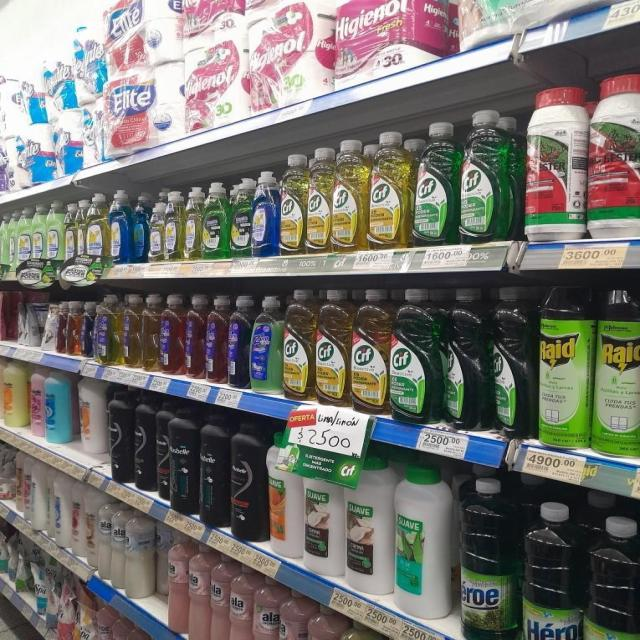ala_crem_amarillo: (337, 623, 376, 640)
ala_crem_blanco: (126, 510, 153, 600), (111, 503, 125, 591)
ala_crem_rosado: (166, 535, 188, 636), (188, 544, 209, 640), (229, 566, 252, 640), (252, 578, 279, 640), (210, 556, 229, 640)
cif_conc_bot_amarilla: (368, 130, 411, 250), (351, 288, 388, 412), (332, 138, 367, 253), (315, 289, 349, 405), (283, 290, 314, 400), (280, 152, 306, 255), (306, 148, 331, 254)
cif_conc_botella_verde: (459, 109, 514, 243), (389, 287, 440, 423), (413, 120, 458, 246)
magistral_con_amarillo: (86, 192, 107, 274), (184, 186, 202, 261), (165, 188, 183, 262), (64, 199, 77, 290), (18, 205, 32, 288), (32, 202, 45, 289), (150, 192, 164, 262), (76, 197, 87, 286)
magistral_con_azul: (252, 170, 278, 258), (110, 189, 130, 265), (131, 190, 148, 264)
zorro: (94, 295, 121, 365)
